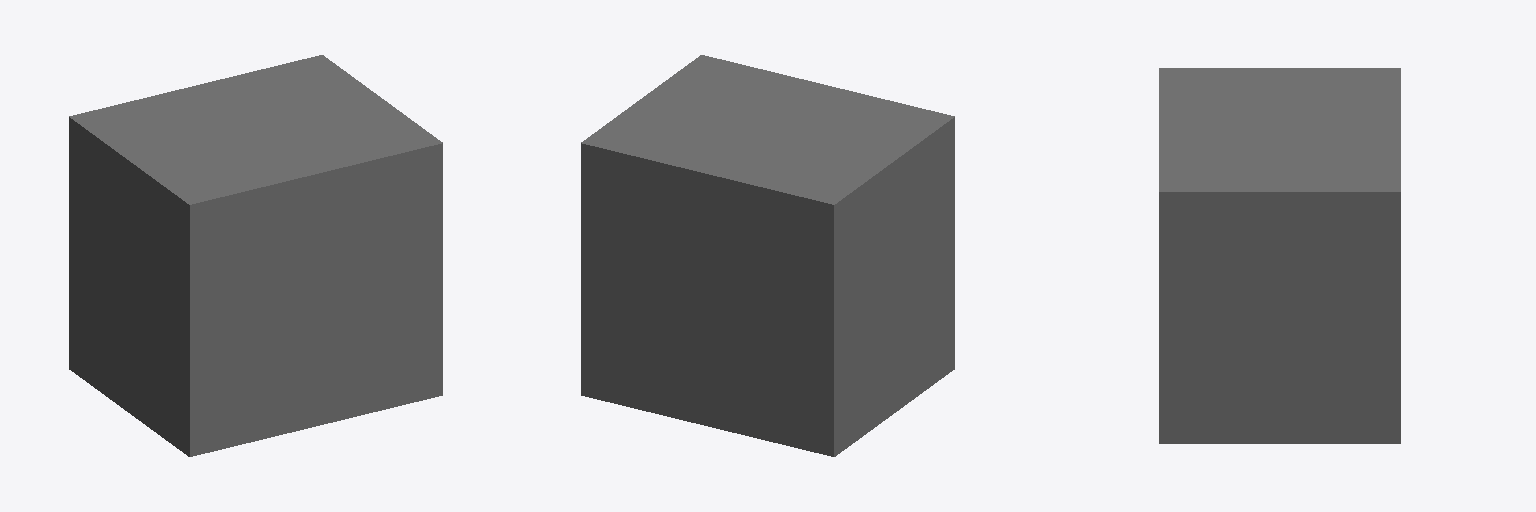
The model's file is rmc_mask.obj.
The picture shows the model from 3 angles: view 1: azimuth 30°, elevation 25°; view 2: azimuth 150°, elevation 25°; view 3: azimuth 270°, elevation 25°; orthographic projection.
Bounding box in the file's own units: 2 × 1.9 × 1.65.